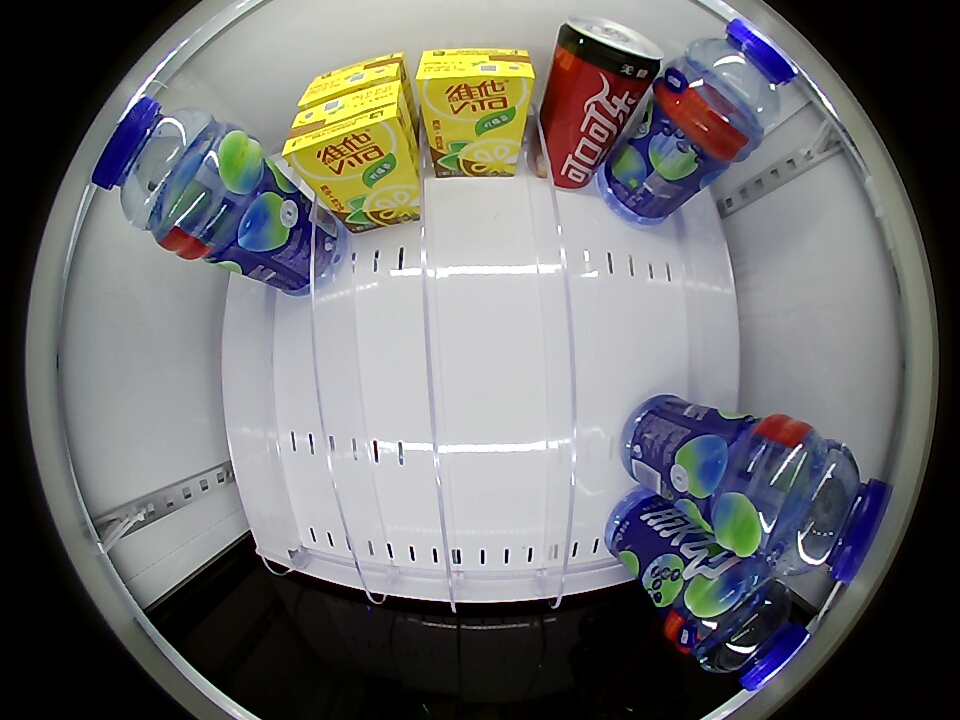lingdukele: (553, 15, 662, 89)
maidong: (94, 98, 237, 245), (747, 433, 888, 580), (670, 18, 789, 160), (688, 563, 808, 693)
weitaningmeng: (282, 81, 409, 185), (416, 46, 535, 118), (298, 51, 407, 110)
